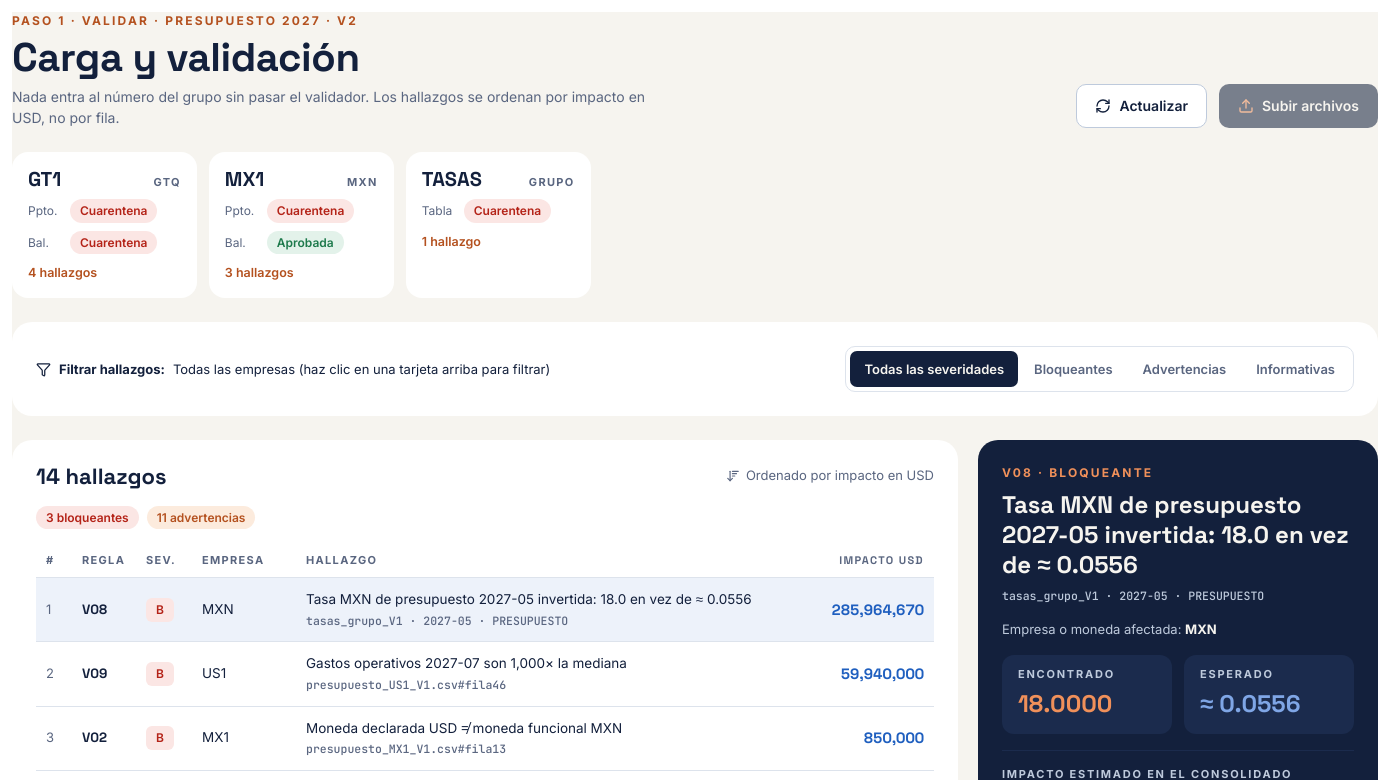
Test: ValidationPage › selecciona un hallazgo y muestra su detalle
Check: the text "18.0000" is shown, box [1018,688,1112,719]
What coordinates should you click on to do the following:
click the text "V02"
I would click on:
 (95, 738)
Its box is [82,729,107,746].
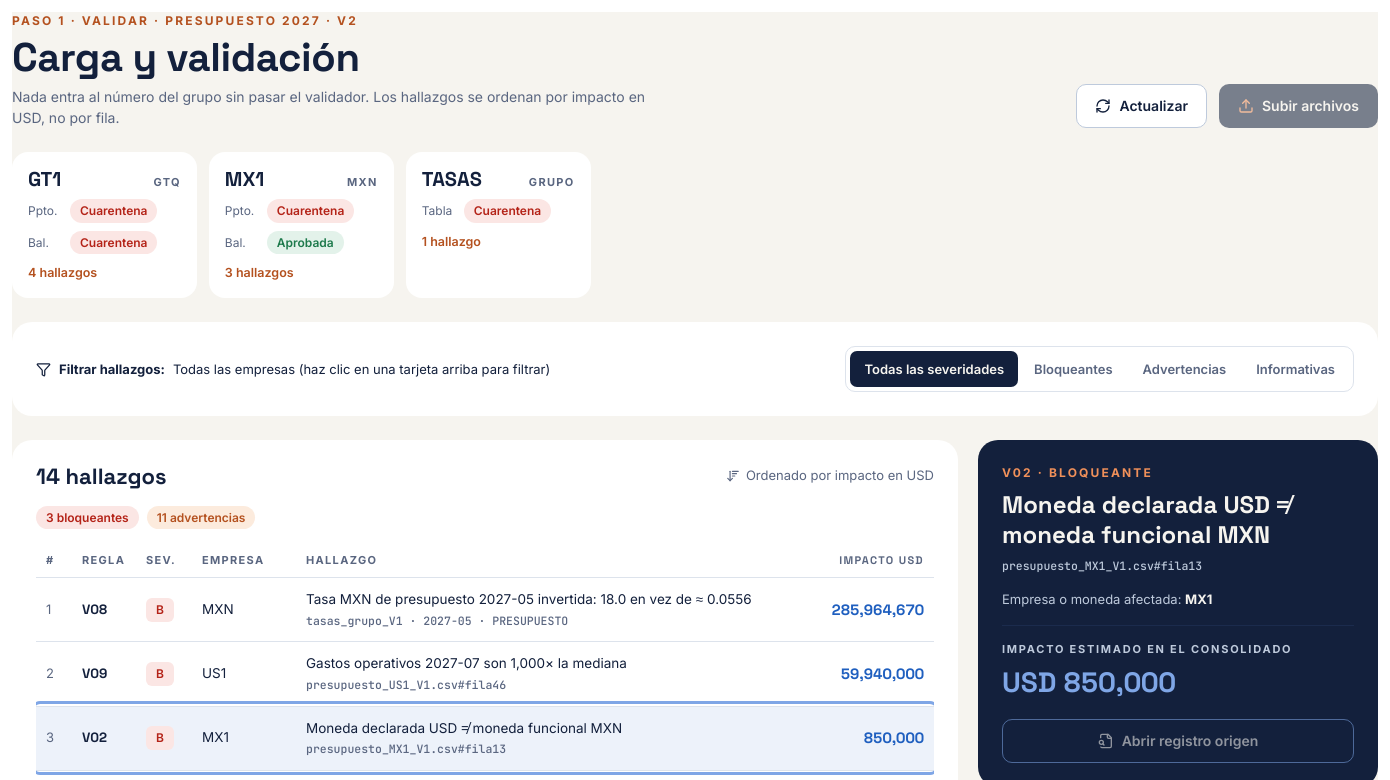
Check: the text "USD 850,000" is shown, box [1002,664,1176,700]
